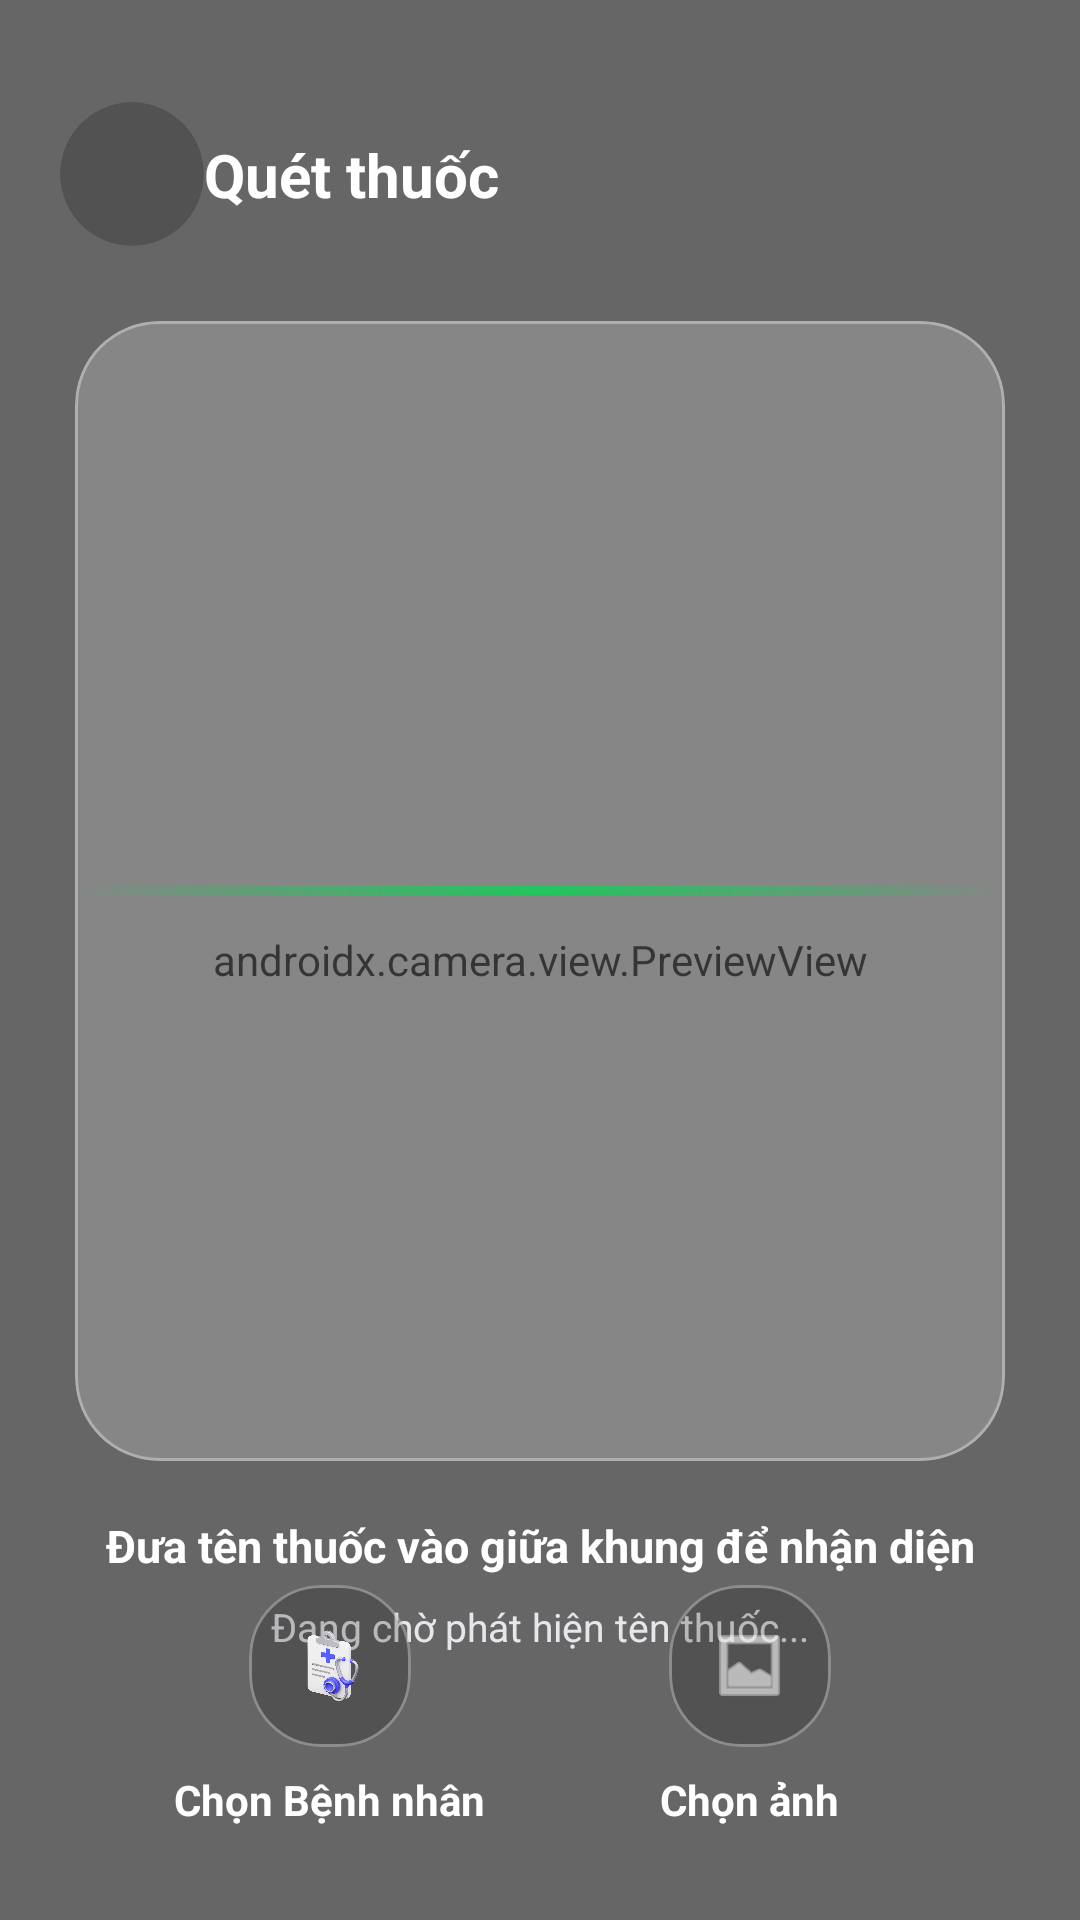

Icon bounding boxes for this 1080px×1920px phone screenshot, format box=[x1, y1, x2, y2]:
gallery: box=[717, 1625, 786, 1696]
